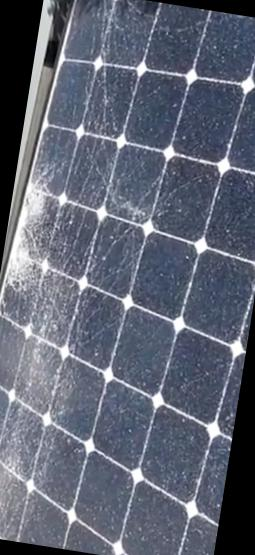Crack: (0, 238, 66, 307), (23, 174, 62, 230)
